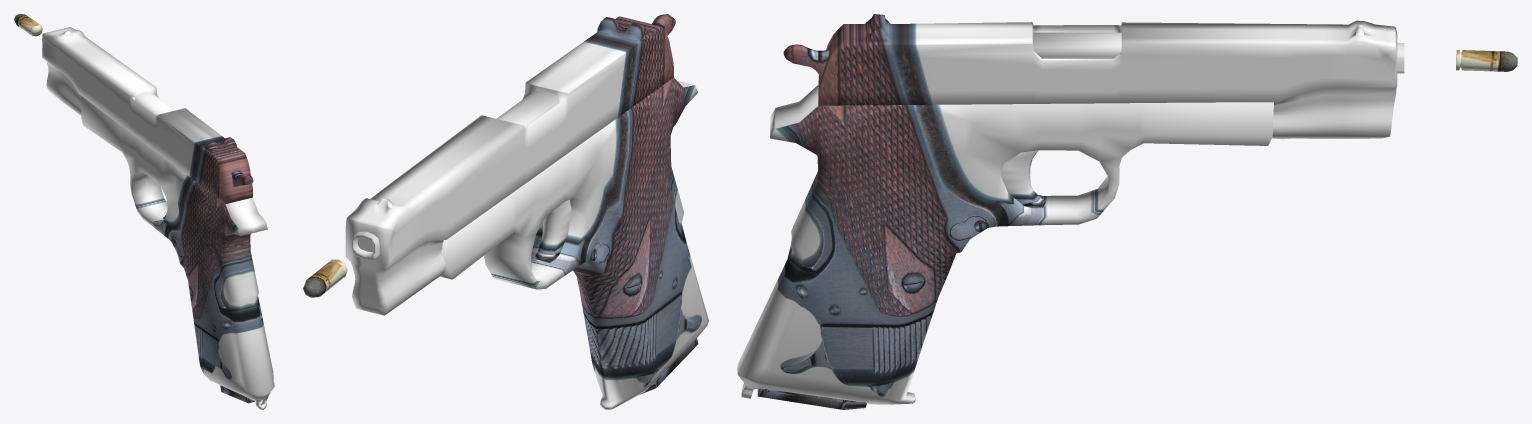
File: M1911_assembled.dae
3 views of the same model, side by side, from view 1: azimuth 30°, elevation 25°; view 2: azimuth 150°, elevation 25°; view 3: azimuth 270°, elevation 25° (orthographic). The views are drawn at different scales.
Parts seen in each view (by area): view 1: Hand, Top, Barell, Bullet, Kakas; view 2: Hand, Top, Barell, Trigger, Bullet, Magazin; view 3: Hand, Top, Barell, Trigger, Bullet, Magazin, Kakas.
Boxes of the visible parts, bbox=[...] form: Hand: bbox=[81, 96, 274, 409]; Top: bbox=[42, 27, 252, 204]; Barell: bbox=[135, 92, 175, 115]; Bullet: bbox=[14, 14, 42, 36]; Kakas: bbox=[231, 170, 253, 186]; Hand: bbox=[440, 77, 708, 409]; Top: bbox=[345, 16, 673, 315]; Barell: bbox=[352, 90, 559, 259]; Trigger: bbox=[534, 199, 571, 262]; Bullet: bbox=[303, 259, 347, 297]; Magazin: bbox=[640, 338, 698, 394]; Hand: bbox=[737, 85, 1273, 404]; Top: bbox=[818, 14, 1397, 139]; Barell: bbox=[1033, 32, 1404, 73]; Trigger: bbox=[1000, 150, 1046, 208]; Bullet: bbox=[1456, 50, 1517, 71]; Magazin: bbox=[757, 388, 866, 409]; Kakas: bbox=[783, 44, 829, 76].
Bounding box in the file's own units: 0.5362 × 5.94 × 3.23.
Materials: 7 (7 with a texture image).
